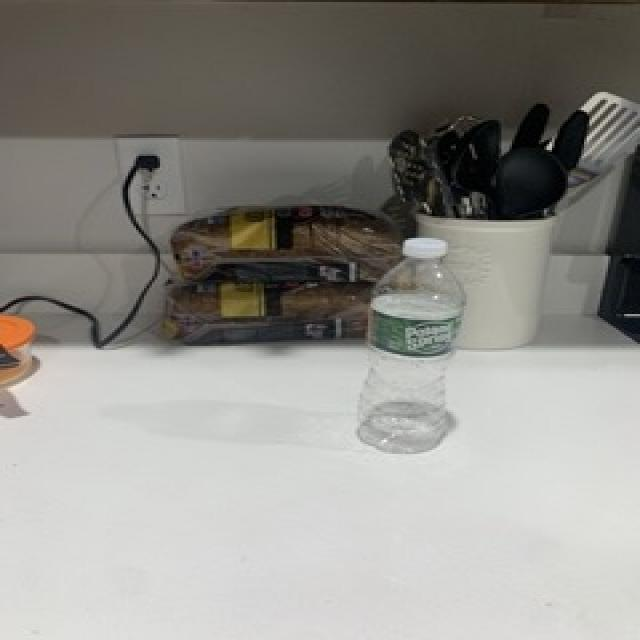water_bottle: (354, 235, 465, 454)
